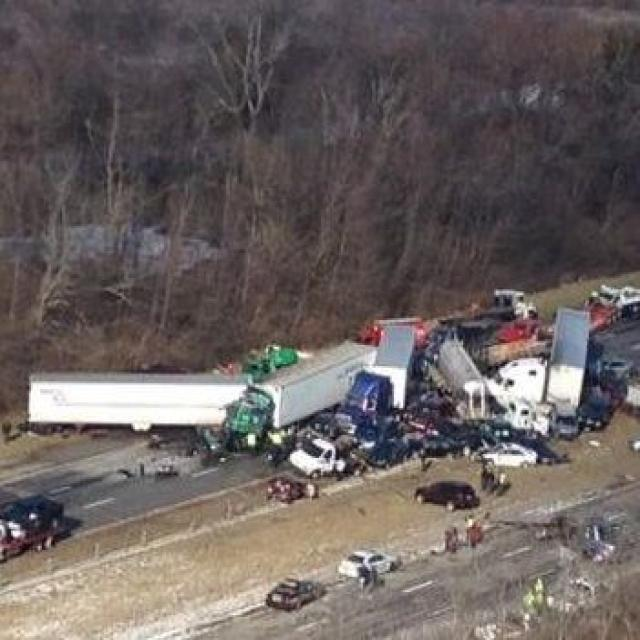traffic_incident: (208, 264, 607, 492)
